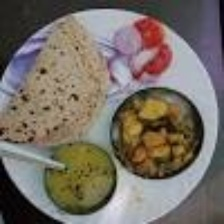sabzi: (111, 87, 203, 181)
